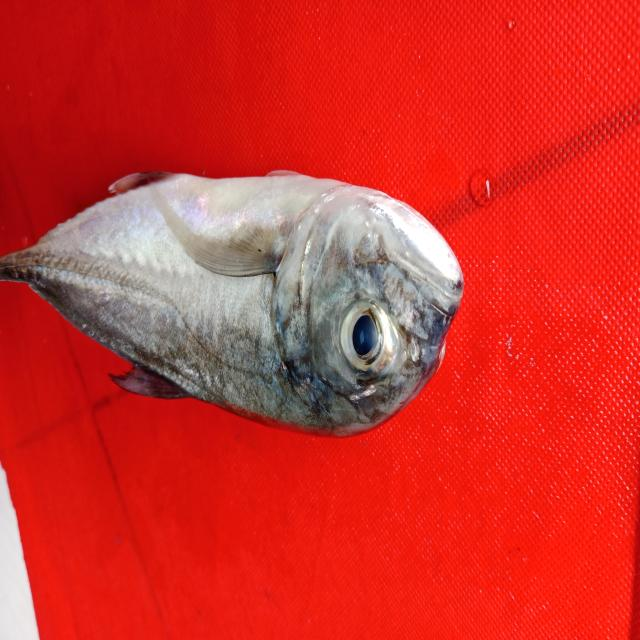ikan: (9, 152, 474, 450)
